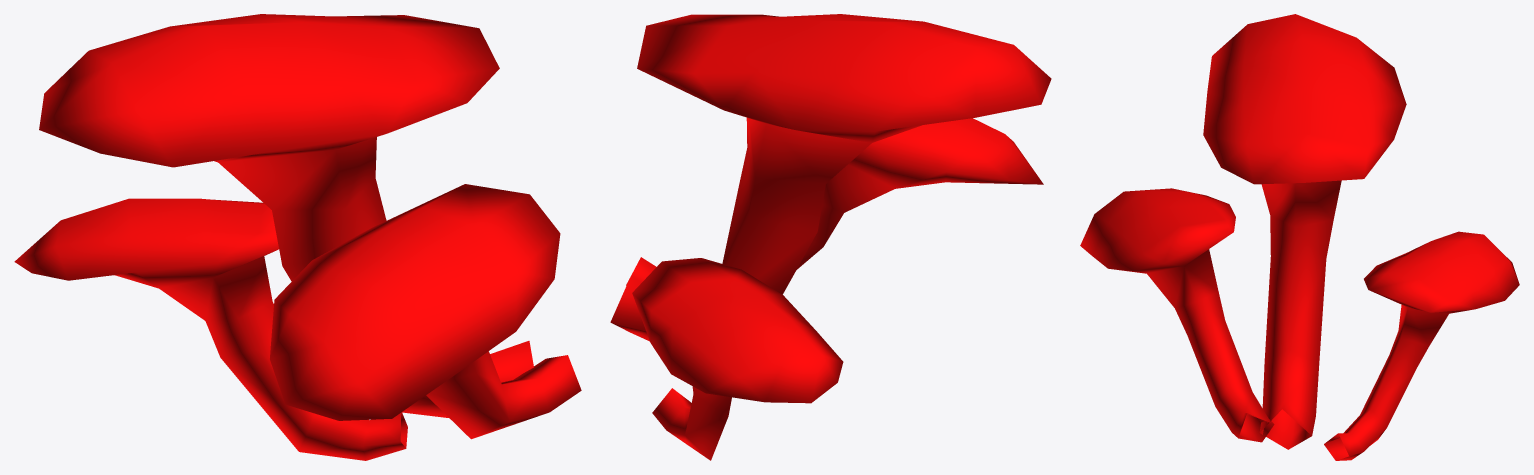
Rendered from mogu.dae.
The picture shows the model from 3 angles, left to right: view 1: azimuth 30°, elevation 25°; view 2: azimuth 150°, elevation 25°; view 3: azimuth 270°, elevation 25°; orthographic projection. The views are drawn at different scales.
Parts seen in each view (by area): view 1: node0; view 2: node0; view 3: node0.
Boxes of the visible parts, x1,y1,x2,y2 form: node0: [14, 14, 581, 460]; node0: [610, 14, 1051, 460]; node0: [1080, 14, 1519, 460].
Bounding box in the file's own units: 6.3 × 6.09 × 6.87.
